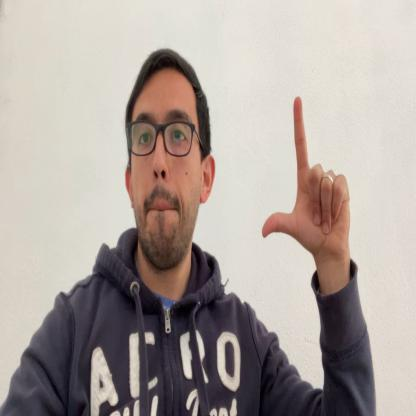L: (261, 93, 350, 265)
